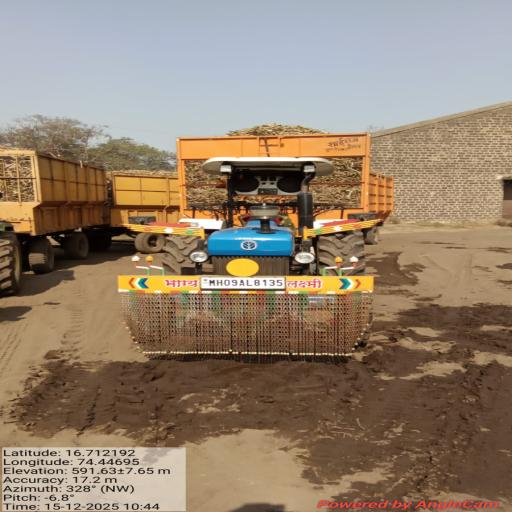number_plate: (201, 271, 305, 298)
